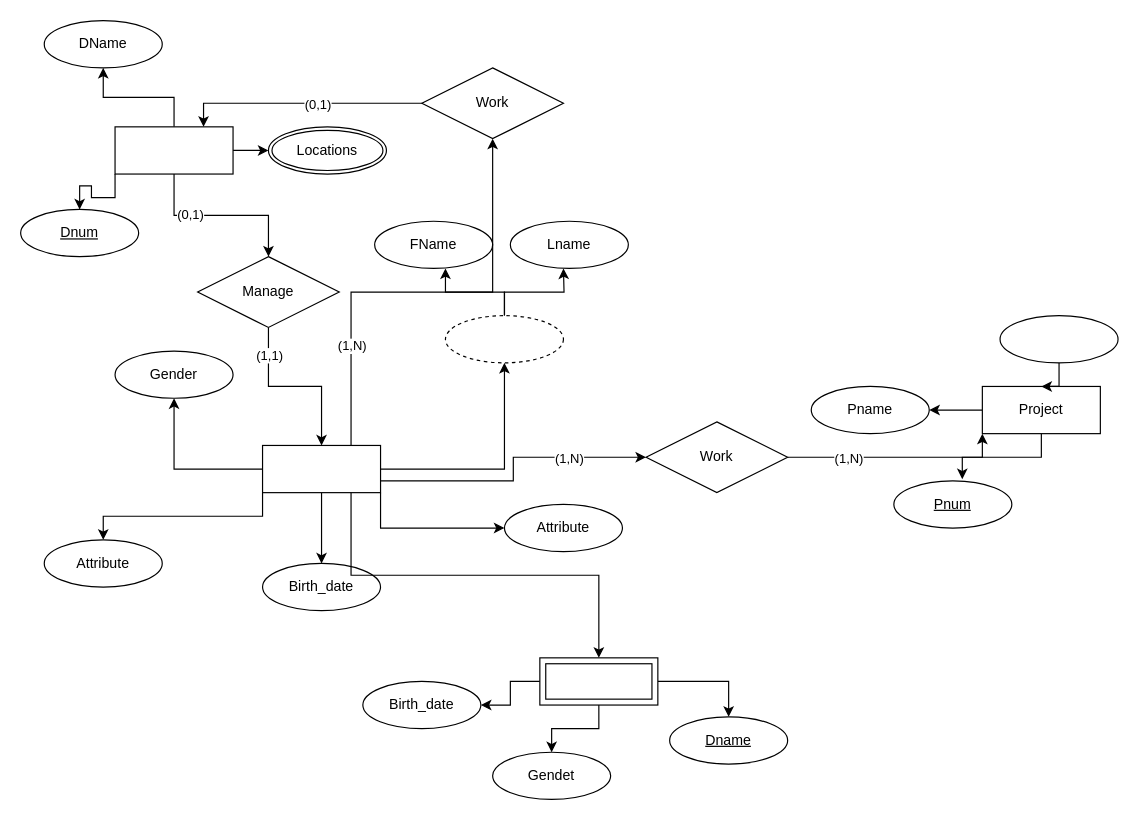
This 1139x820 diagram has some shape labels left out. The centre of each missing label's shape, as x and y in pixels:
Department: the point at 173,150
Dependant: the point at 598,681
employee: the point at 321,468
Location: the point at 1058,338
Name: the point at 503,338
